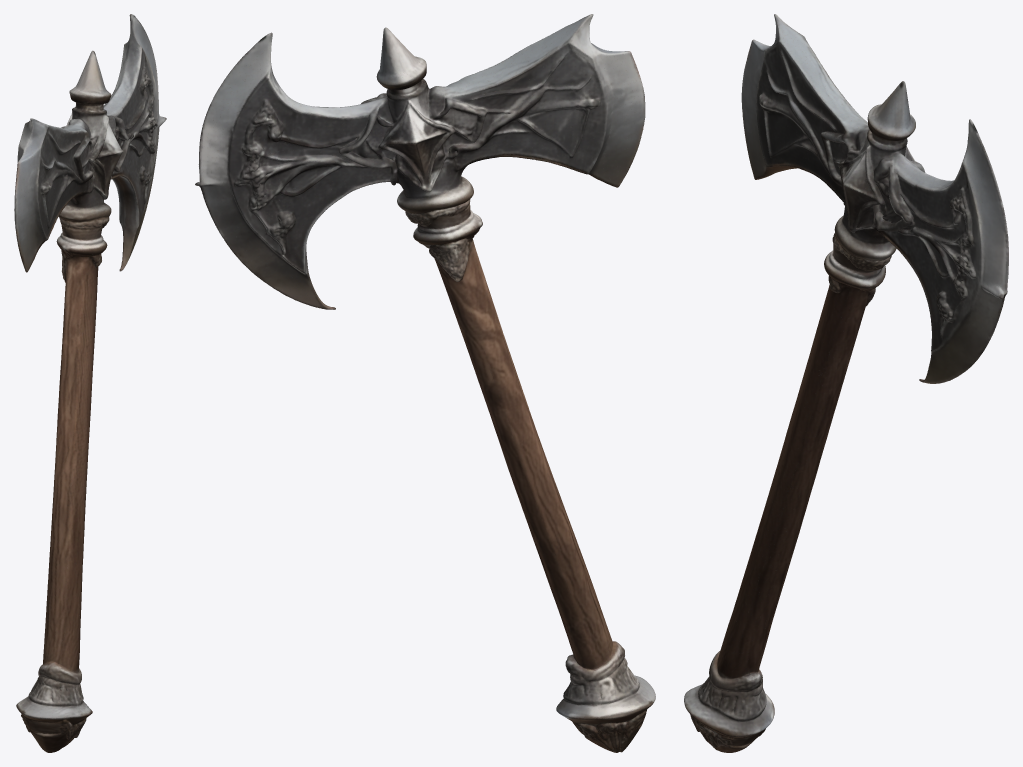
File: axe.glb
3 views of the same model, side by side, from view 1: azimuth 30°, elevation 25°; view 2: azimuth 150°, elevation 25°; view 3: azimuth 270°, elevation 25° (orthographic). The views are drawn at different scales.
Size of the model in its own units: 0.4029 by 0.916 by 0.3652.
1 material, 1 textured.
